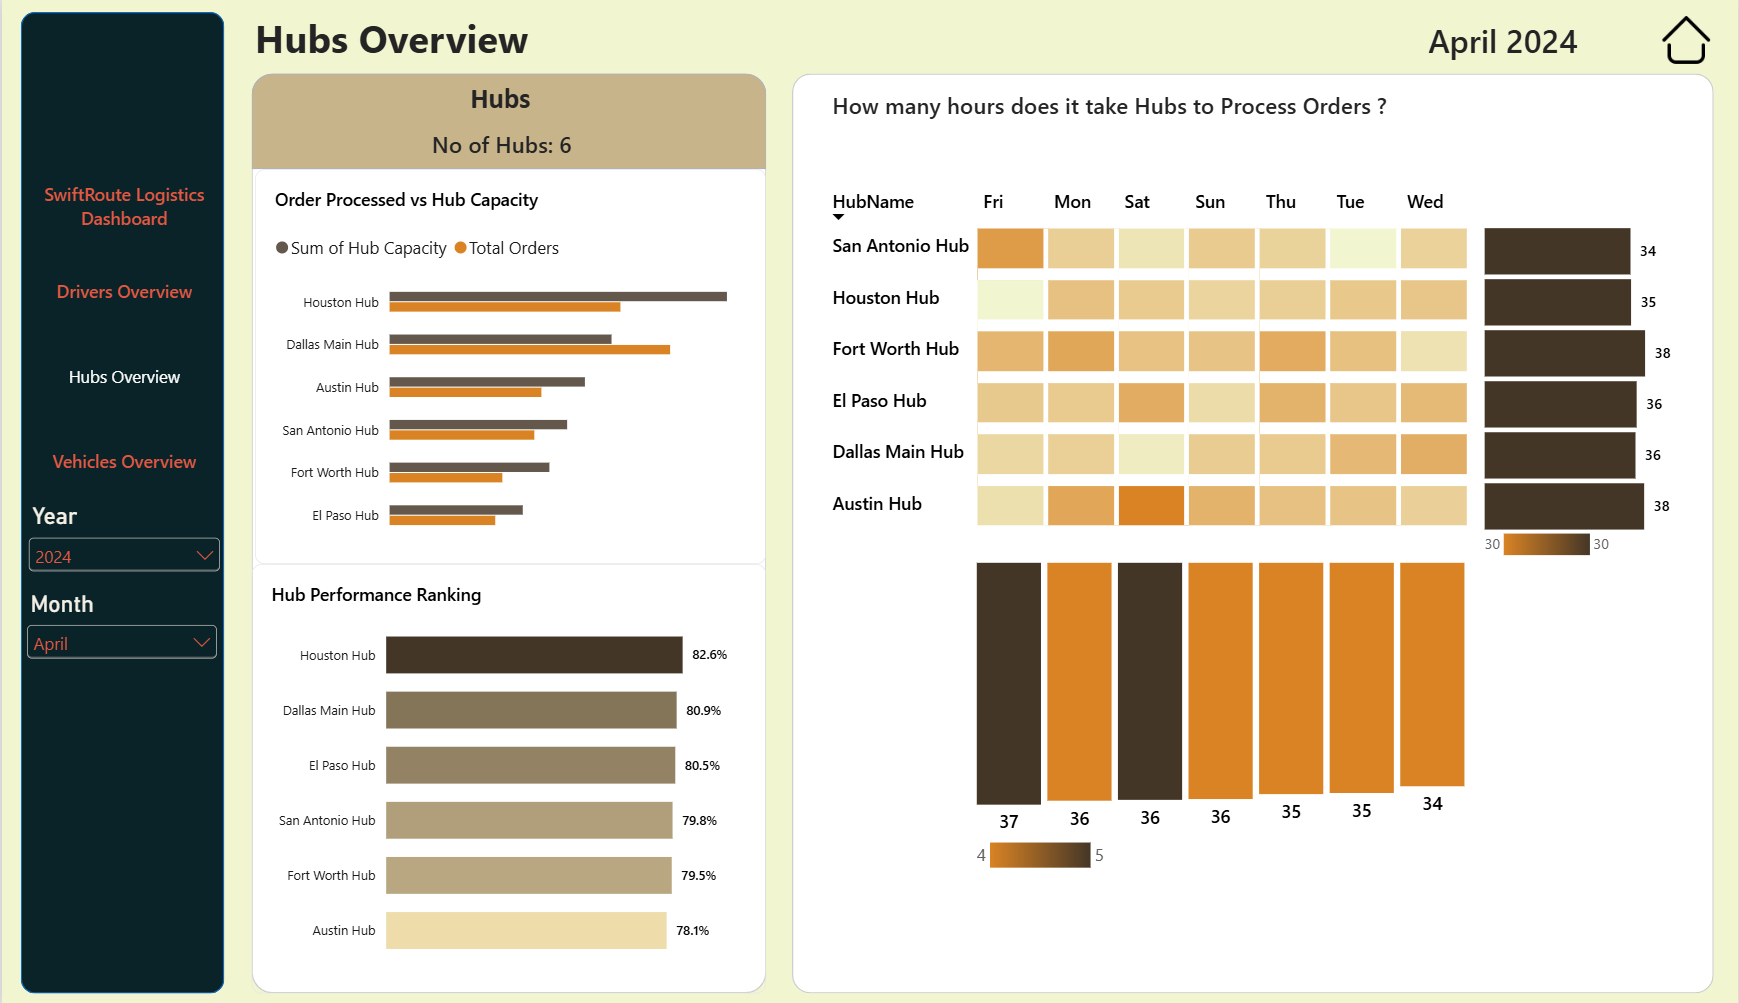

This screenshot's page, from the dashboard's own definition file:
{"tool":"powerbi","page":{"name":"Hubs Overview","canvas":[1450,840],"ordinal":2},"visuals":[{"type":"shape","box":[15.7,10,170,820],"z":0},{"type":"textbox","box":[211.7,10,426.7,48.3],"z":1000},{"type":"slicer","fields":{"Values":["Date Table.Year"]},"box":[17.1,420,170,72.9],"z":2000},{"type":"slicer","fields":{"Values":["Date Table.Month"]},"box":[15.7,492.9,168.6,78.6],"z":3000},{"type":"cardVisual","fields":{"Data":["Orders.Year Mont Title"]},"box":[1131.4,10,245.7,47.1],"z":4000},{"type":"shape","box":[660,61.4,770,768.6],"z":5000},{"type":"image","box":[1384.3,10,45.7,47.1],"z":6000},{"type":"shape","box":[208.3,61.7,430,768.3],"z":7000},{"type":"shape","box":[208.3,61.7,430,80],"z":8000},{"type":"textbox","box":[227.8,66.5,378.3,40],"z":9000},{"type":"cardVisual","fields":{"Data":["Hubs.No of Hubs"]},"box":[228.3,101.7,378.6,38.6],"z":10000},{"type":"clusteredBarChart","title":"Order Processed vs Hub Capacity","fields":{"Category":["Hubs.HubName"],"Y":["Sum(Hubs.Hub Capacity)","Orders.Total Orders"]},"box":[211.7,141.7,426.7,330],"z":11000},{"type":"barChart","title":"Hub Performance Ranking","fields":{"Category":["Hubs.HubName"],"Y":["Orders.On Time Delivery Rate"]},"box":[208.6,471.4,430,358.6],"z":12000},{"type":"pivotTable","fields":{"Columns":["Date Table.Day"],"Rows":["Hubs.HubName"],"Values":["Orders.Avg Delivery Time (Hrs)"]},"box":[673.3,140,576.7,328.3],"z":13000},{"type":"columnChart","fields":{"Category":["Date Table.Day"],"Y":["Orders.Avg Delivery Time (Hrs)"]},"box":[798.3,446.7,440,300],"z":14000},{"type":"barChart","fields":{"Category":["Hubs.HubName"],"Y":["Orders.Avg Delivery Time (Hrs)"]},"box":[1223.3,168.3,226.7,318.3],"z":15000},{"type":"cardVisual","fields":{"Data":["Hubs.Hubs Title"]},"box":[672.9,68.6,505.7,38.6],"z":16000},{"type":"pageNavigator","box":[17.1,141.4,170,278.6],"z":17000}]}

Visuals, with their boxes in screenshot pixels (x1, y1, x2, y2), scaled from the page's 1450x840 canvas onto the 1739x1003 screenshot:
shape: {"left": 19, "top": 12, "right": 223, "bottom": 991}
textbox: {"left": 254, "top": 12, "right": 766, "bottom": 70}
slicer - Date Table.Year: {"left": 21, "top": 502, "right": 224, "bottom": 589}
slicer - Date Table.Month: {"left": 19, "top": 589, "right": 221, "bottom": 682}
cardVisual - Orders.Year Mont Title: {"left": 1357, "top": 12, "right": 1652, "bottom": 68}
shape: {"left": 792, "top": 73, "right": 1715, "bottom": 991}
image: {"left": 1660, "top": 12, "right": 1715, "bottom": 68}
shape: {"left": 250, "top": 74, "right": 766, "bottom": 991}
shape: {"left": 250, "top": 74, "right": 766, "bottom": 169}
textbox: {"left": 273, "top": 79, "right": 727, "bottom": 127}
cardVisual - Hubs.No of Hubs: {"left": 274, "top": 121, "right": 728, "bottom": 168}
"Order Processed vs Hub Capacity" clusteredBarChart: {"left": 254, "top": 169, "right": 766, "bottom": 563}
"Hub Performance Ranking" barChart: {"left": 250, "top": 563, "right": 766, "bottom": 991}
pivotTable - Date Table.Day x Hubs.HubName: {"left": 807, "top": 167, "right": 1499, "bottom": 559}
columnChart - Date Table.Day x Orders.Avg Delivery Time (Hrs): {"left": 957, "top": 533, "right": 1485, "bottom": 892}
barChart - Hubs.HubName x Orders.Avg Delivery Time (Hrs): {"left": 1467, "top": 201, "right": 1738, "bottom": 581}
cardVisual - Hubs.Hubs Title: {"left": 807, "top": 82, "right": 1414, "bottom": 128}
pageNavigator: {"left": 21, "top": 169, "right": 224, "bottom": 502}
